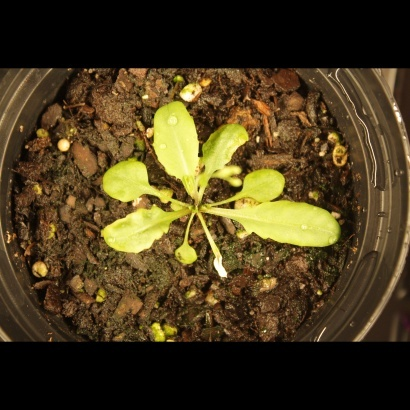leaf: (226, 201, 344, 253), (143, 96, 203, 189), (91, 205, 186, 256), (98, 153, 155, 208), (201, 115, 249, 177), (239, 162, 289, 205), (171, 242, 200, 270)
